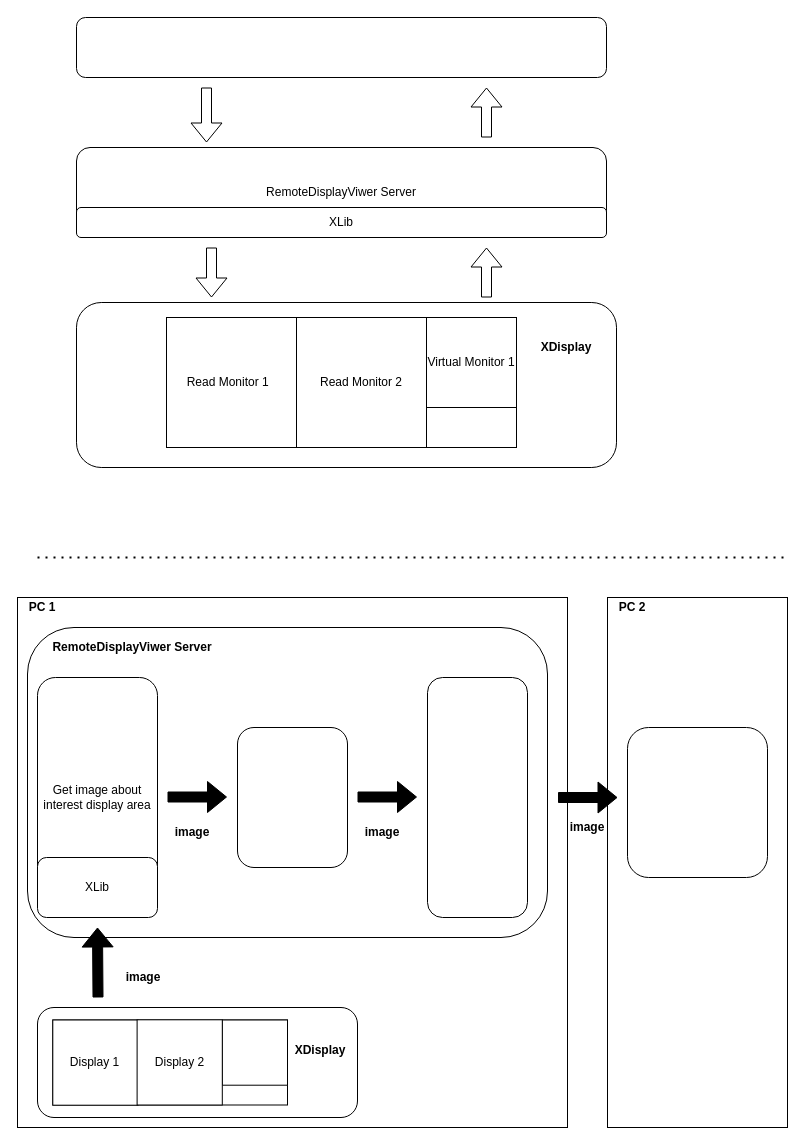
This 807x1145 diagram has some shape labels left out. The centre of each missing label's shape, as x and y in pixels:
"HTTP Image Streaming Server" belongs at point (477, 797).
"RemoteDisplayViewer Client" belongs at point (697, 802).
"RemoteDisplayViwer Client" belongs at point (341, 47).
"Shared Memory" belongs at point (292, 797).
"Virtual Display 1" belongs at point (254, 1052).
